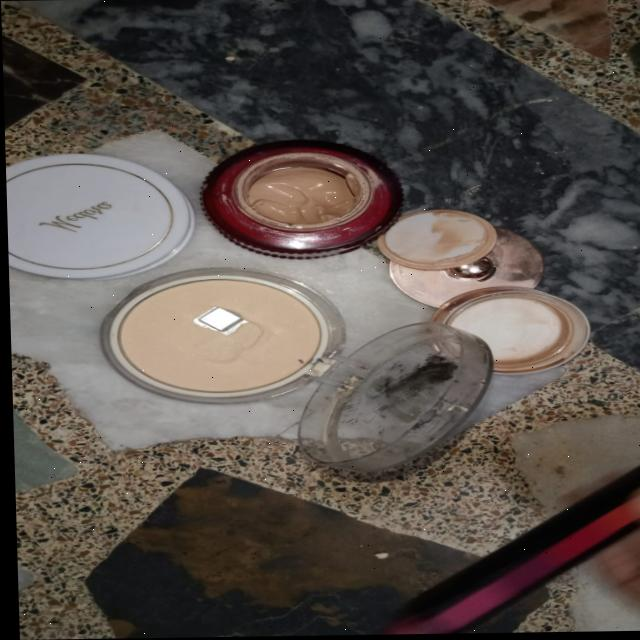powder: (97, 272, 337, 396), (233, 154, 384, 231)
